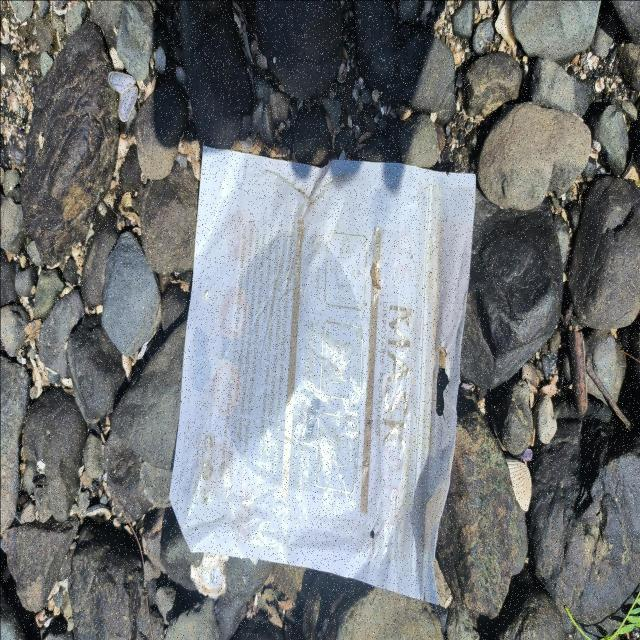plastic_waste: (169, 141, 478, 609)
